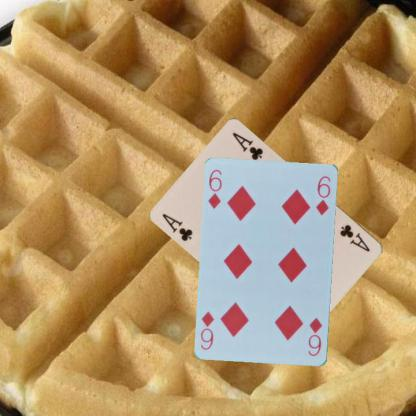6d: (306, 315, 324, 358), (206, 167, 224, 210)
Ac: (160, 210, 195, 243), (338, 221, 372, 253)
